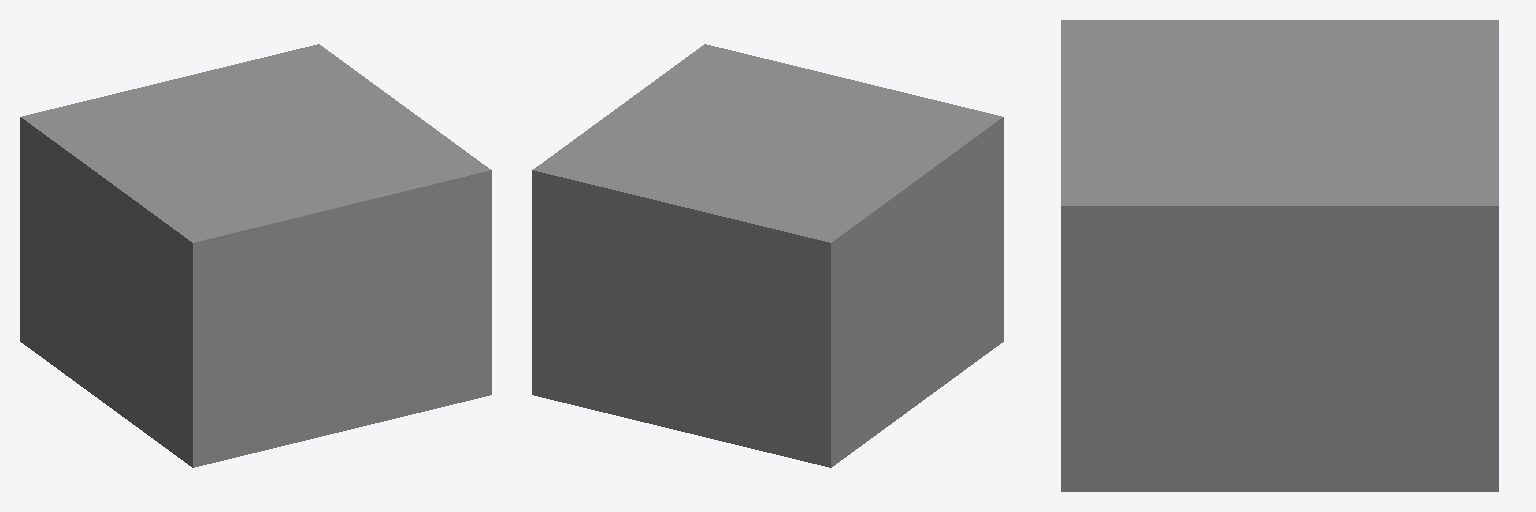
URDF robot description (rotary_slide_boom_1_carriage_1_sensor_1):
<?xml version='1.0' encoding='utf-8'?>
<robot name="rotary_slide_boom_1_carriage_1_sensor_1">
  <link name="boom_1_carriage_1_sensor_1">
    <inertial>
      <origin xyz="2.4492935982947068e-18 -0.04000000000000001 0.02899999999999997" rpy="0 0 0" />
      <mass value="0.08831249999999999" />
      <inertia ixx="6.9840468750019535e-06" iyy="6.984046875000219e-06" izz="9.199218749999767e-06" ixy="1.062646893143348e-34" iyz="2.655529440325959e-35" ixz="4.336808689942018e-19" />
    </inertial>
    <visual>
      <origin xyz="-0.14 -0.07000000000000002 -0.255" rpy="0 0 -1.5707963267948966" />
      <geometry>
        <mesh filename="package://rotary_slide_description/meshes/boom_1_carriage_1_sensor_1.stl" scale="0.001 0.001 0.001" />
      </geometry>
      <material name="boom_1_carriage_1_sensor_1_material">
        <color rgba="0.6235294117647059 0.6235294117647059 0.6235294117647059 1" />
      </material>
    </visual>
    <collision>
      <origin xyz="-0.14 -0.07000000000000002 -0.255" rpy="0 0 -1.5707963267948966" />
      <geometry>
        <mesh filename="package://rotary_slide_description/meshes/boom_1_carriage_1_sensor_1.stl" scale="0.001 0.001 0.001" />
      </geometry>
    </collision>
  </link>
</robot>

--- Render facts (derived) ---
The picture shows the robot from 3 angles, left to right: view 1: azimuth 30°, elevation 25°; view 2: azimuth 150°, elevation 25°; view 3: azimuth 270°, elevation 25°; orthographic projection.
Robot: rotary_slide_boom_1_carriage_1_sensor_1 — 1 links, 0 joints (none); root link boom_1_carriage_1_sensor_1; default pose: every joint at zero.
Links seen in each view (by area): view 1: boom_1_carriage_1_sensor_1; view 2: boom_1_carriage_1_sensor_1; view 3: boom_1_carriage_1_sensor_1.
Boxes of the visible links, box(x1,y1,x2,y2) form: boom_1_carriage_1_sensor_1: box(20, 44, 491, 467); boom_1_carriage_1_sensor_1: box(532, 44, 1003, 467); boom_1_carriage_1_sensor_1: box(1061, 20, 1498, 491).
Bounding box of the posed robot: 0.025 × 0.025 × 0.018 m (x, y, z).
1 mesh visuals loaded from 1 distinct referenced files (1 binary STL).
